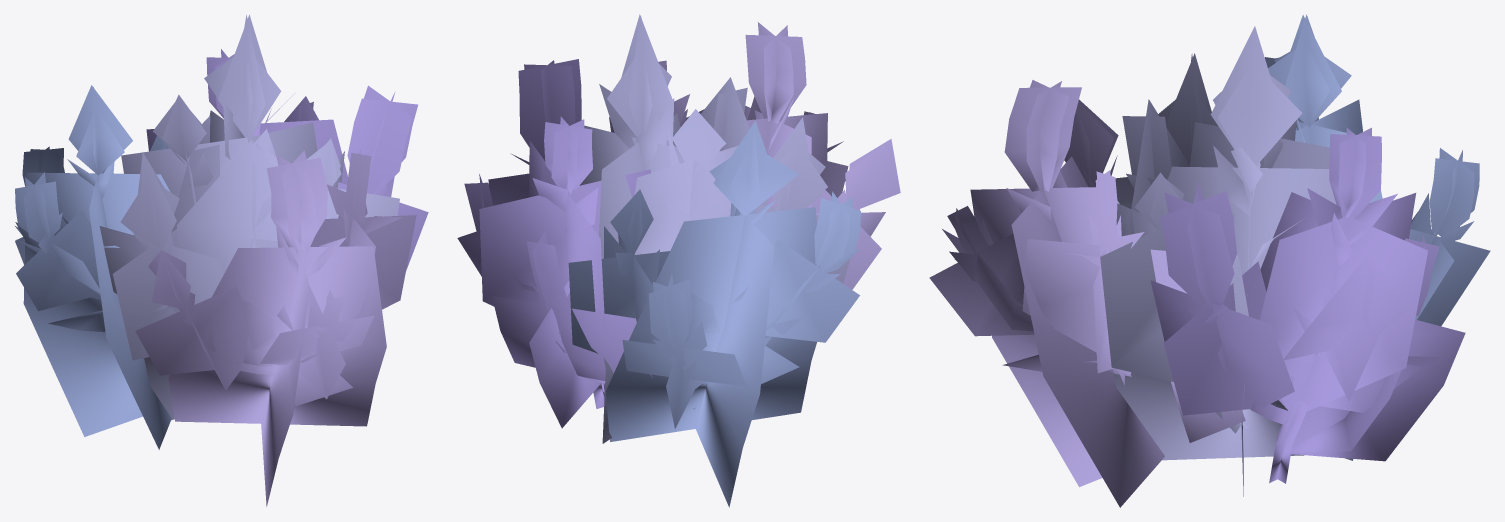
The picture shows the model from 3 angles, left to right: view 1: azimuth 30°, elevation 25°; view 2: azimuth 150°, elevation 25°; view 3: azimuth 270°, elevation 25°; orthographic projection. The views are drawn at different scales.
Visible parts, largest first — view 1: SM_BS_CelosiaMA1_78cm_HD; view 2: SM_BS_CelosiaMA1_78cm_HD; view 3: SM_BS_CelosiaMA1_78cm_HD.
Part boxes in pixels (box(x1,y1,x2,y2)): SM_BS_CelosiaMA1_78cm_HD: box(15, 14, 428, 506); SM_BS_CelosiaMA1_78cm_HD: box(457, 14, 900, 507); SM_BS_CelosiaMA1_78cm_HD: box(929, 14, 1490, 507).
Bounding box in the file's own units: 33.51 × 29.17 × 32.47.
